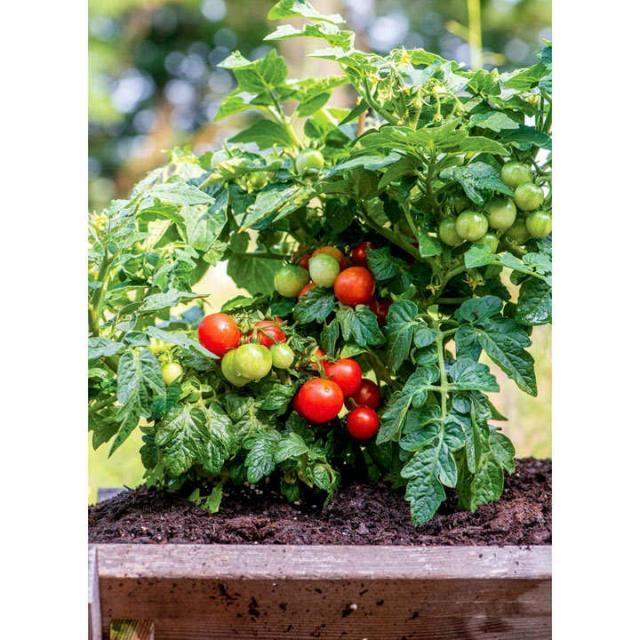tomato: (87, 0, 552, 527)
